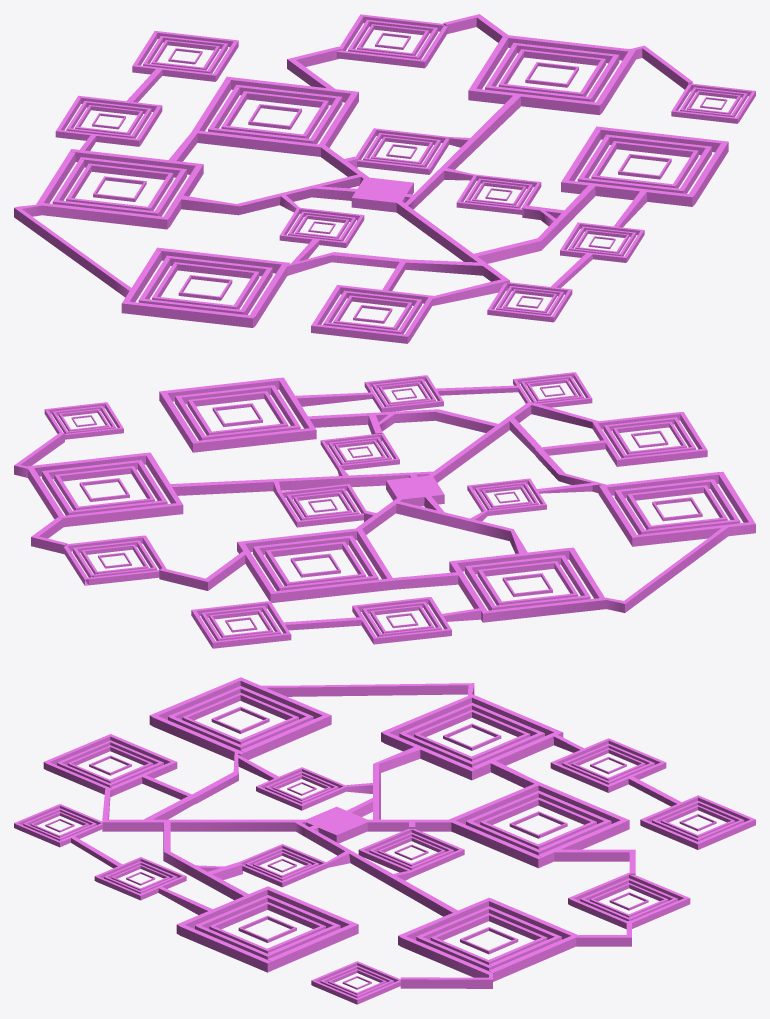
The model's file is homura_bow_exshot.fbx.
The picture shows the model from 3 angles, top to bottom: view 1: azimuth 30°, elevation 25°; view 2: azimuth 150°, elevation 25°; view 3: azimuth 270°, elevation 25°; orthographic projection. The views are drawn at different scales.
Visible parts, largest first — view 1: magia; view 2: magia; view 3: magia.
Part boxes in pixels (x1,y1,x2,y2): magia: (14, 14, 755, 343); magia: (14, 372, 755, 648); magia: (14, 677, 755, 1004).
Size of the model in its own units: 198 by 3.38 by 194.
